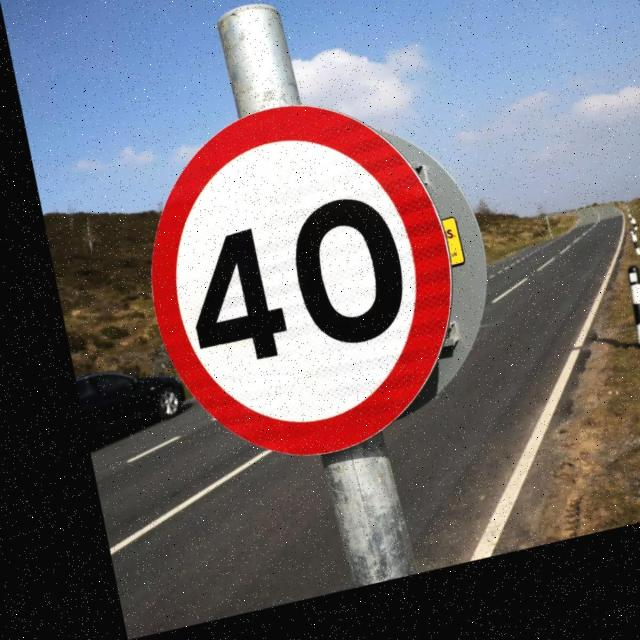speed limit 40: (146, 104, 452, 452)
